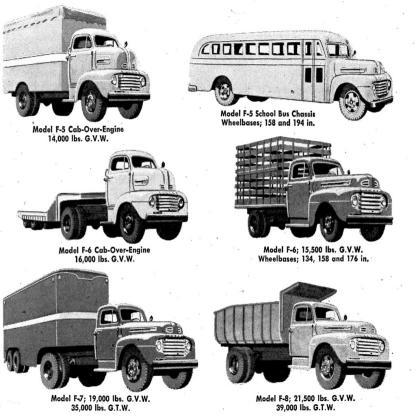Truck: (1, 274, 196, 392), (213, 281, 392, 388), (1, 3, 151, 122), (234, 136, 392, 242), (18, 149, 188, 243)
